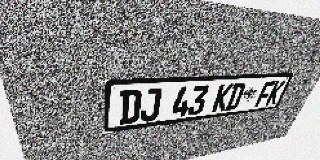3: (187, 85, 210, 116)
4: (171, 86, 194, 118)
D: (119, 89, 142, 125), (224, 83, 247, 111)
F: (254, 81, 276, 107)
J: (139, 88, 162, 122)
K: (211, 84, 234, 113), (265, 80, 286, 105)
